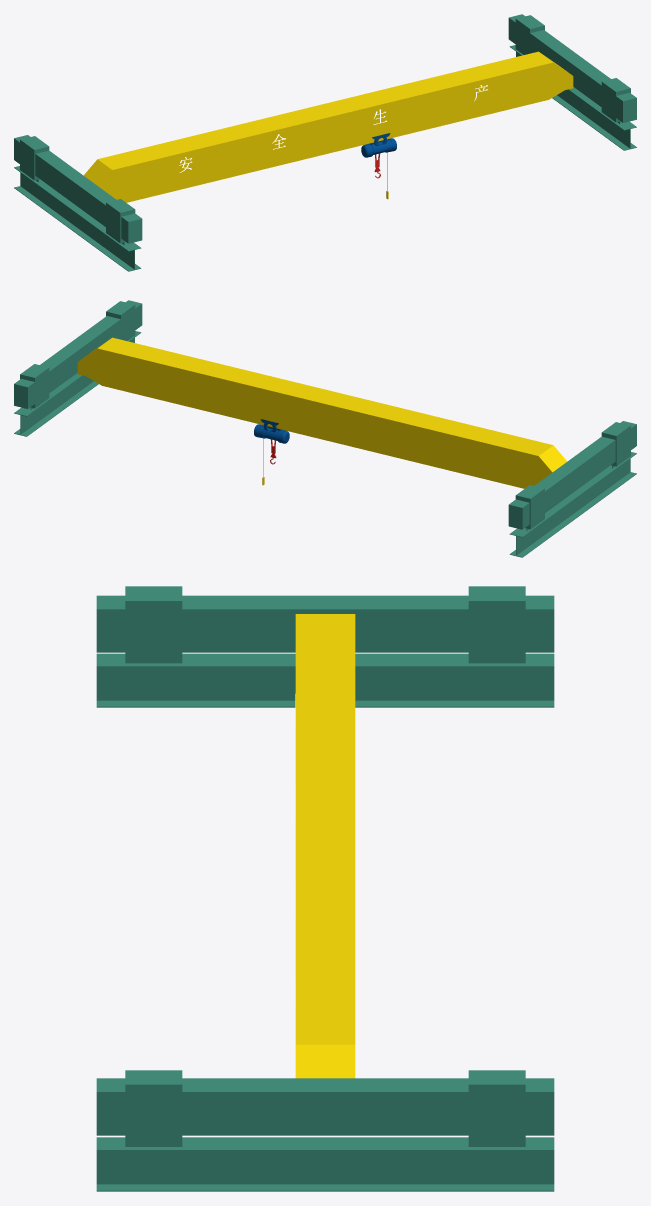
The model's file is electric-single-girder-crane.gltf.
The picture shows the model from 3 angles, top to bottom: view 1: azimuth 30°, elevation 25°; view 2: azimuth 150°, elevation 25°; view 3: azimuth 270°, elevation 25°; orthographic projection. The views are drawn at different scales.
Visible parts, largest first — view 1: 拉伸 [232581], 连接的实心几何图形 [233078], 拉伸 [232547], 拉伸 [232603], 拉伸 [232595], 拉伸 [232562]; view 2: 拉伸 [232581], 连接的实心几何图形 [233078], 拉伸 [232547], 拉伸 [232603], 拉伸 [232595], 拉伸 [232562]; view 3: 连接的实心几何图形 [233078], 拉伸 [232581], 拉伸 [232562], 拉伸 [232547].
Boxes of the visible parts, x1,y1,x2,y2 form: 拉伸 [232581]: [84, 51, 573, 196]; 连接的实心几何图形 [233078]: [14, 14, 636, 244]; 拉伸 [232547]: [14, 166, 141, 271]; 拉伸 [232603]: [117, 90, 564, 202]; 拉伸 [232595]: [112, 84, 573, 199]; 拉伸 [232562]: [509, 45, 636, 150]; 拉伸 [232581]: [77, 337, 566, 482]; 连接的实心几何图形 [233078]: [14, 300, 636, 530]; 拉伸 [232547]: [509, 452, 636, 557]; 拉伸 [232603]: [86, 376, 533, 488]; 拉伸 [232595]: [77, 370, 538, 485]; 拉伸 [232562]: [14, 331, 141, 436]; 连接的实心几何图形 [233078]: [96, 586, 554, 1146]; 拉伸 [232581]: [295, 614, 355, 1078]; 拉伸 [232562]: [96, 1137, 554, 1191]; 拉伸 [232547]: [96, 653, 554, 707].
Size of the model in its own units: 10.3 by 1.99 by 4.
